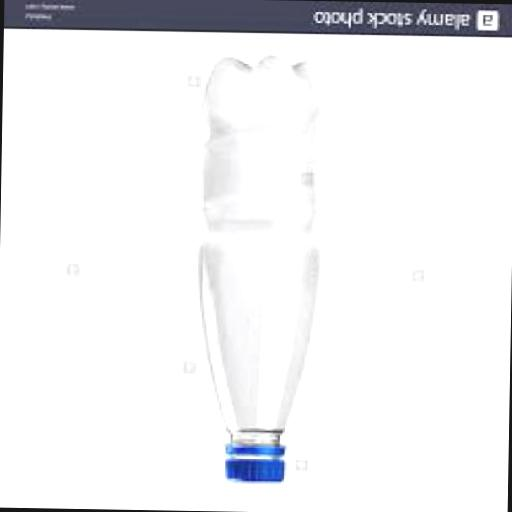plastic: (196, 58, 326, 484), (228, 443, 290, 486)
